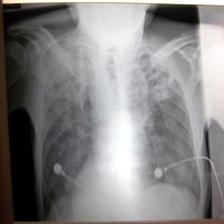tuberculosis: (34, 37, 208, 224)
